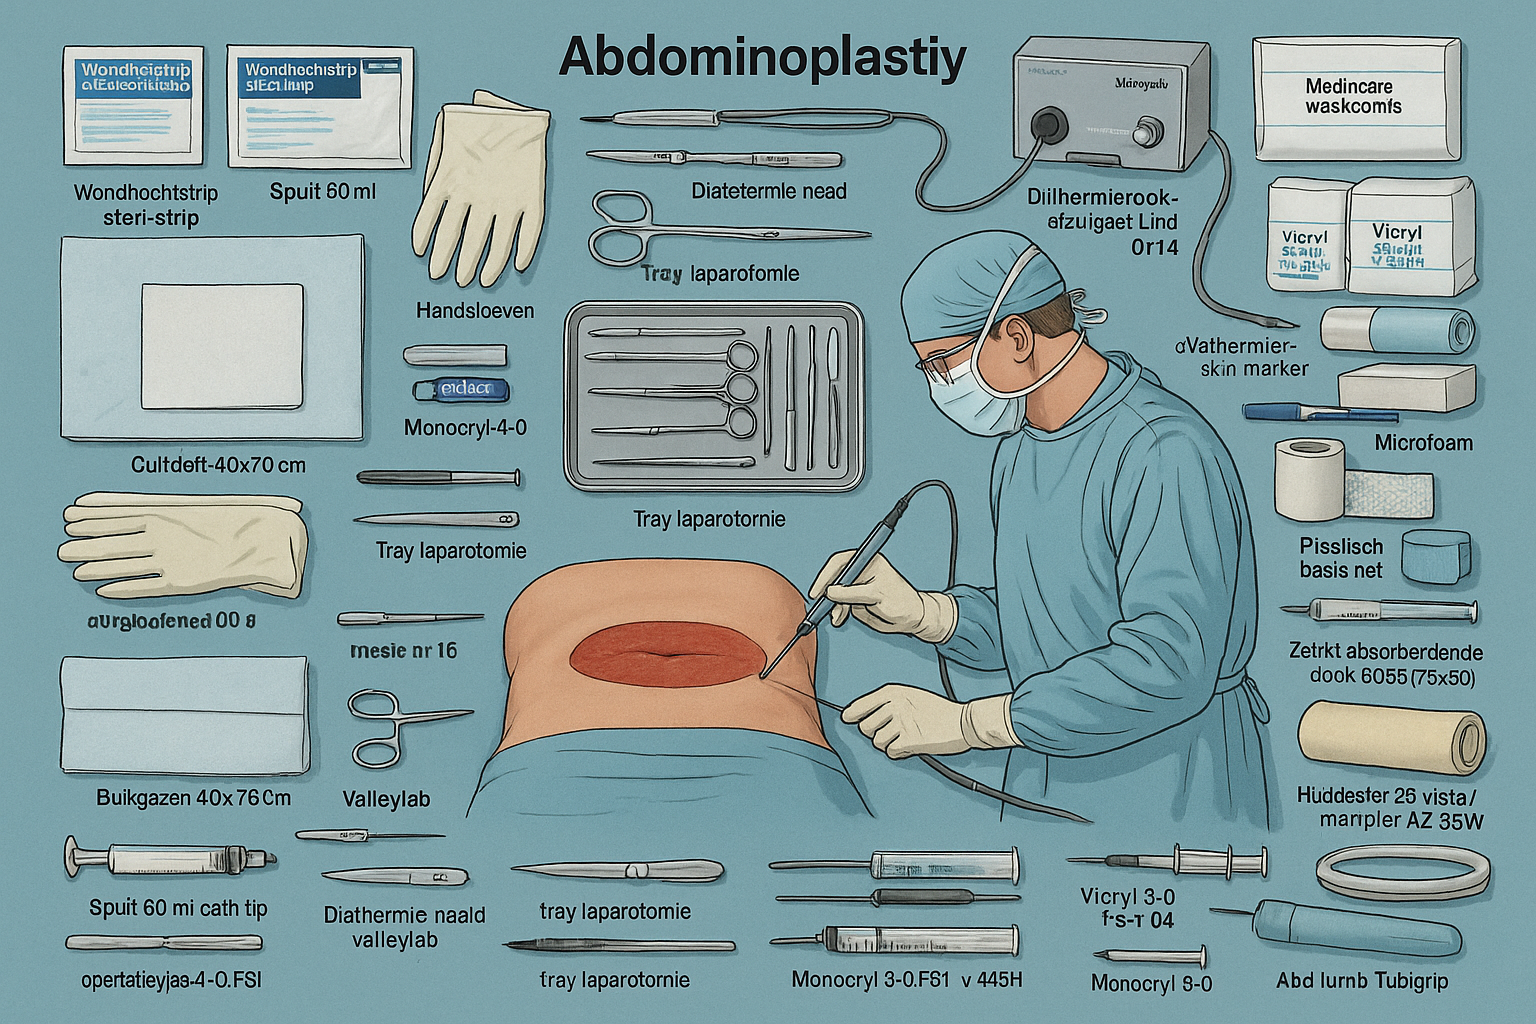abd.lumb.tubigrip: (1202, 904, 1473, 960)
buikgazen 40x70cm cutisoft: (58, 658, 313, 775)
diathermie naald valleylab: (311, 861, 478, 889)
handschoenen: (59, 494, 317, 602)
huidstapler 35 vista/manipler az-35: (1298, 701, 1490, 778)
markeerpen / skin marker: (1322, 306, 1478, 354)
mediocare washandjes: (1251, 33, 1465, 165)
mesje nr 15: (337, 608, 488, 629)
microfoam: (1232, 365, 1498, 430)
monocryl 3-0 fs: (771, 917, 1027, 967)
monocryl 4-0: (400, 343, 517, 408), (1091, 939, 1209, 967)
operatiejas l reinforced: (67, 928, 263, 955)
plastisch basis net: (1263, 429, 1371, 533), (1399, 525, 1485, 594)
spuit 60 ml cath tip: (226, 43, 411, 168), (59, 834, 280, 883)
tray laparotomie: (569, 298, 862, 489), (583, 190, 889, 266), (505, 853, 738, 889), (505, 927, 738, 963), (346, 502, 528, 535)
vicryl 3-0 fs-1 v443h: (1062, 842, 1272, 885)
wondhechtstrip steri-strip blauw: (64, 48, 203, 169)
zelfkl.absorberende doek 9095 (75x50): (1277, 592, 1481, 637)
